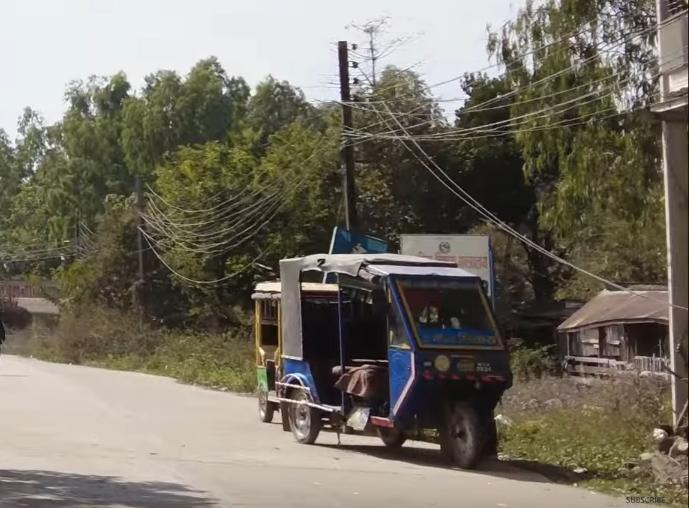e-rickshaw: (279, 237, 522, 476)
